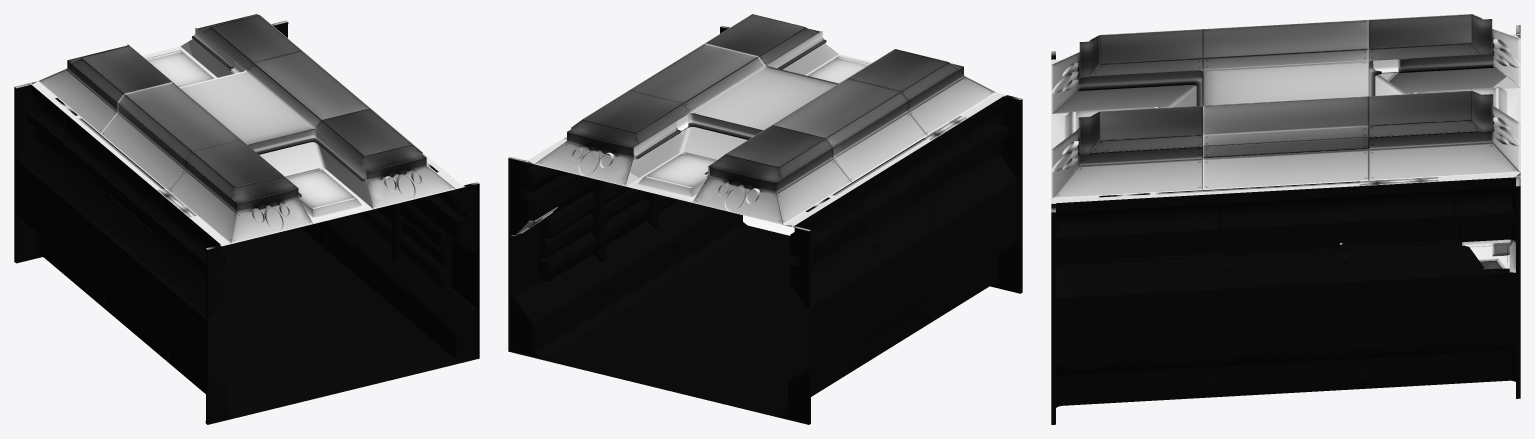
The model's file is HallwayLean.fbx.
The picture shows the model from 3 angles, left to right: view 1: azimuth 30°, elevation 25°; view 2: azimuth 150°, elevation 25°; view 3: azimuth 270°, elevation 25°; orthographic projection. The views are drawn at different scales.
Parts seen in each view (by area): view 1: HallwayLean001; view 2: HallwayLean001; view 3: HallwayLean001.
Boxes of the visible parts, box(x1,y1,x2,y2) form: HallwayLean001: box(14, 14, 479, 424); HallwayLean001: box(508, 14, 1022, 424); HallwayLean001: box(1051, 14, 1520, 424).
Bounding box in the file's own units: 650 × 523 × 800.
